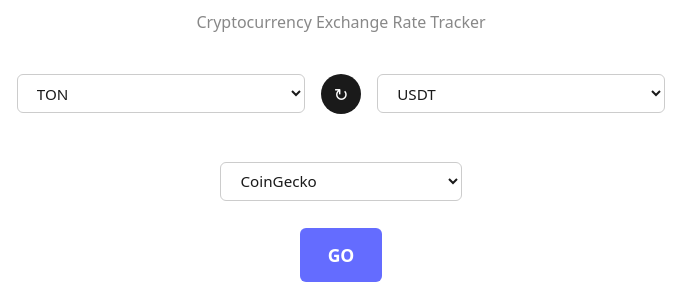
Test case: App › switches currencies when switch button is clicked
This screenshot has width=682, height=299.
Click the button "↻". click: click(341, 94)
box: [321,74,361,114]
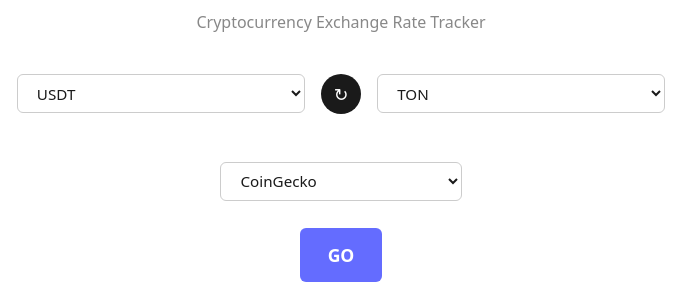
Now the 1st dropdown showing "USDT" is shown, box [17,74,305,113]
Now the 2nd dropdown showing "TON" is shown, box [377,74,665,113]
